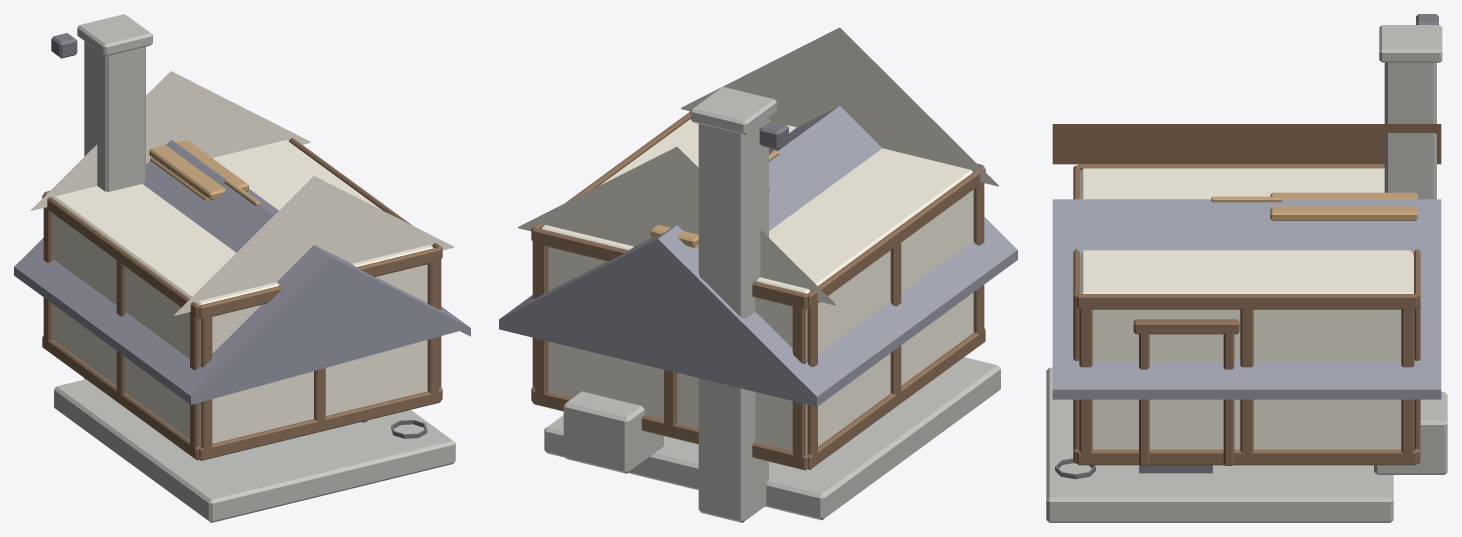
The model's file is town_cooks_kitchen.glb.
3 renders of one model, left to right at view 1: azimuth 30°, elevation 25°; view 2: azimuth 150°, elevation 25°; view 3: azimuth 270°, elevation 25°, orthographic. The views are drawn at different scales.
Visible parts, largest first — view 1: world; view 2: world; view 3: world.
Boxes of the visible parts, x1,y1,x2,y2 form: world: (14, 14, 470, 522); world: (499, 27, 1017, 522); world: (1046, 14, 1447, 522).
Bounding box in the file's own units: 1.64 × 2 × 1.85.
